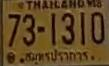0: (90, 12, 104, 44)
1: (50, 12, 56, 46), (80, 12, 84, 45)
3: (61, 12, 74, 44), (22, 13, 35, 45)
7: (8, 13, 20, 46)
SPK: (24, 49, 91, 64)
